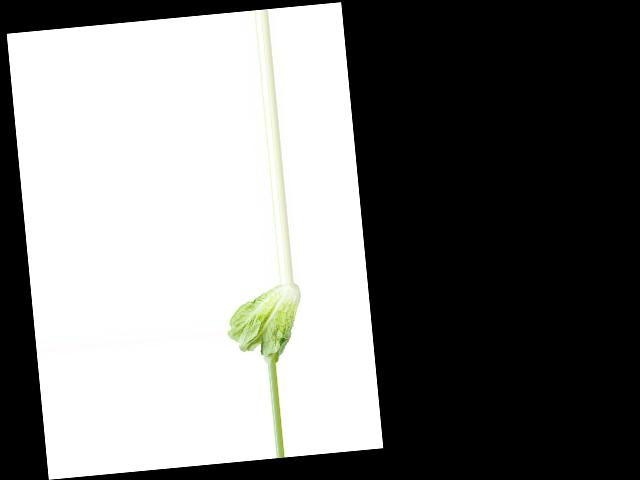lettuce: (222, 283, 307, 365)
